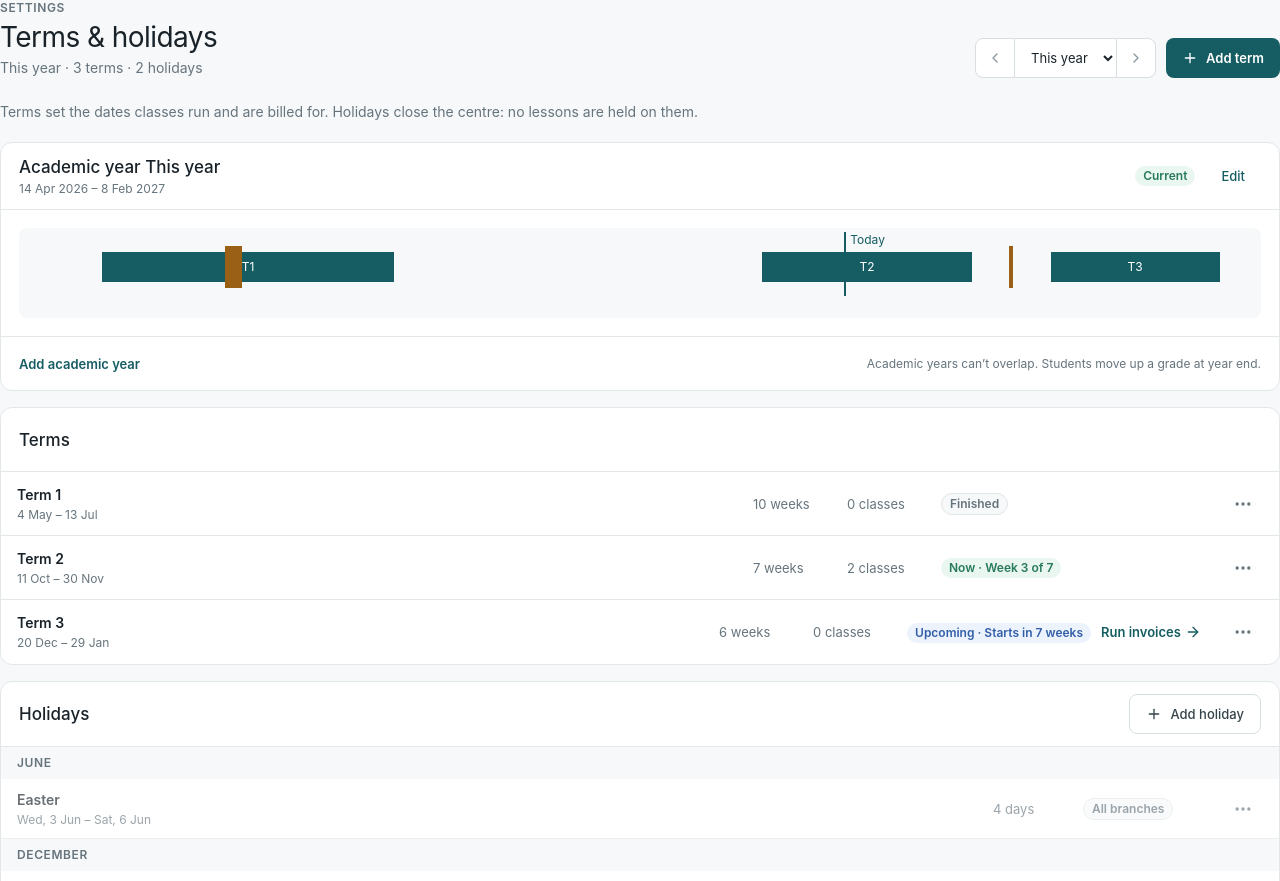
Test: changing them › lists the classes that keep a term from being deleted
Step 1. Click the button named "Actions for Term 2" → (1243, 568), box [1223, 548, 1263, 588]
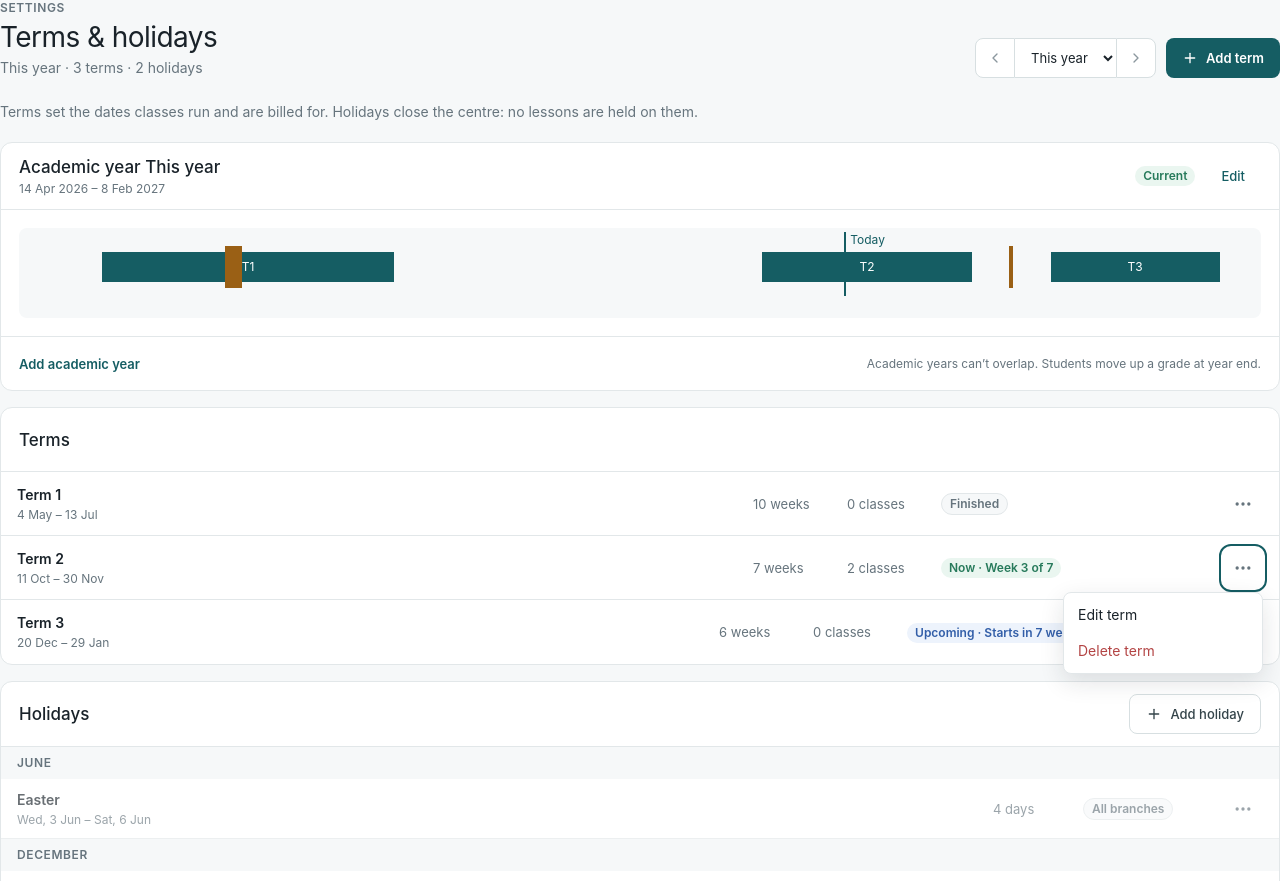
Step 2. Click the menu item "Delete term" → (1163, 650), box [1068, 632, 1258, 668]
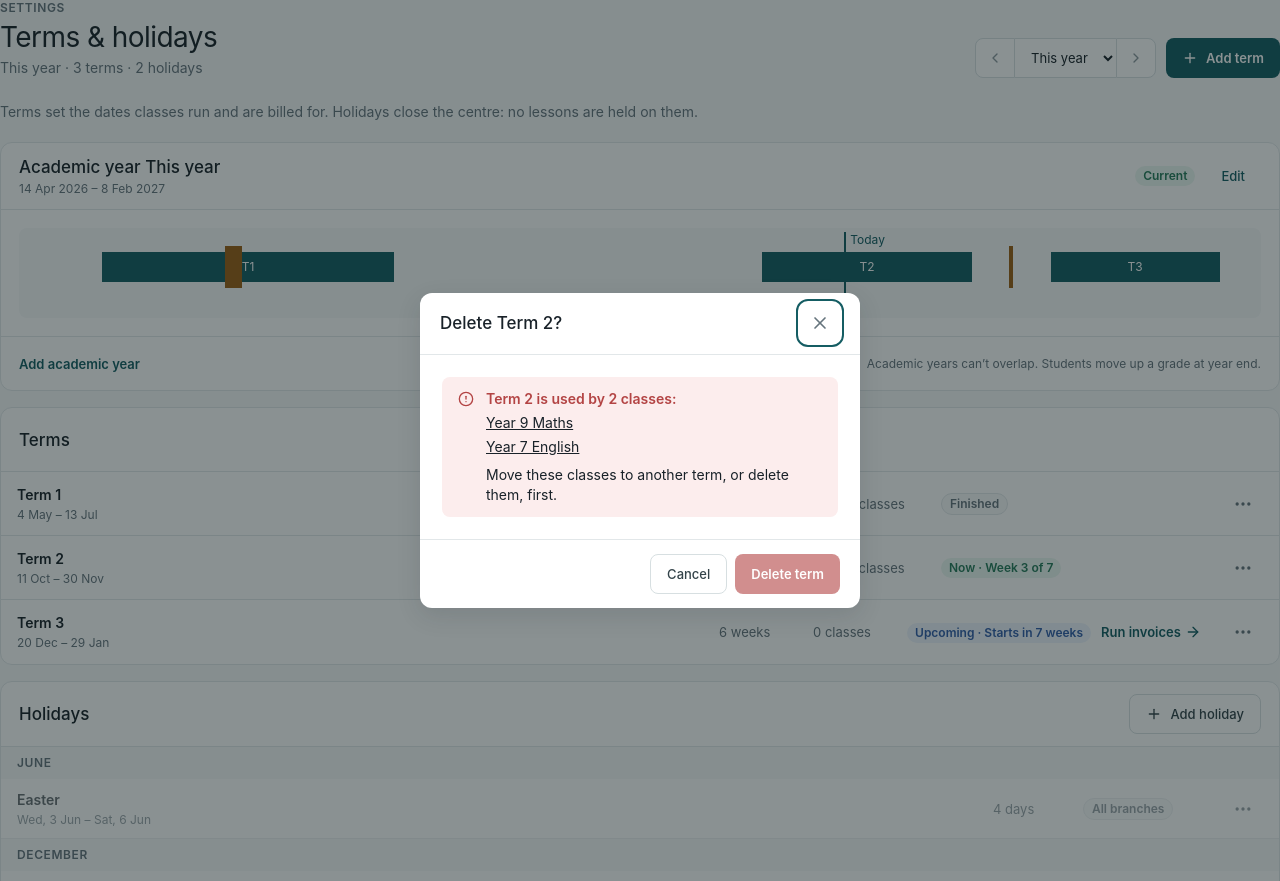
Expected: the text "Term 2 is used by 2 classes:" is shown, [486, 390, 676, 406]
Expected: the link "Year 9 Maths" is shown, [486, 414, 573, 430]
Expected: the button "Delete term" is disabled, [735, 554, 840, 594]
